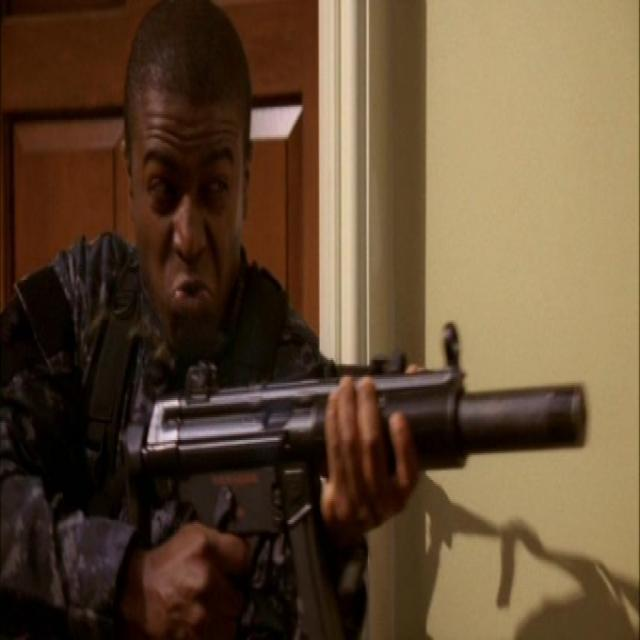rifle: (115, 296, 598, 640)
